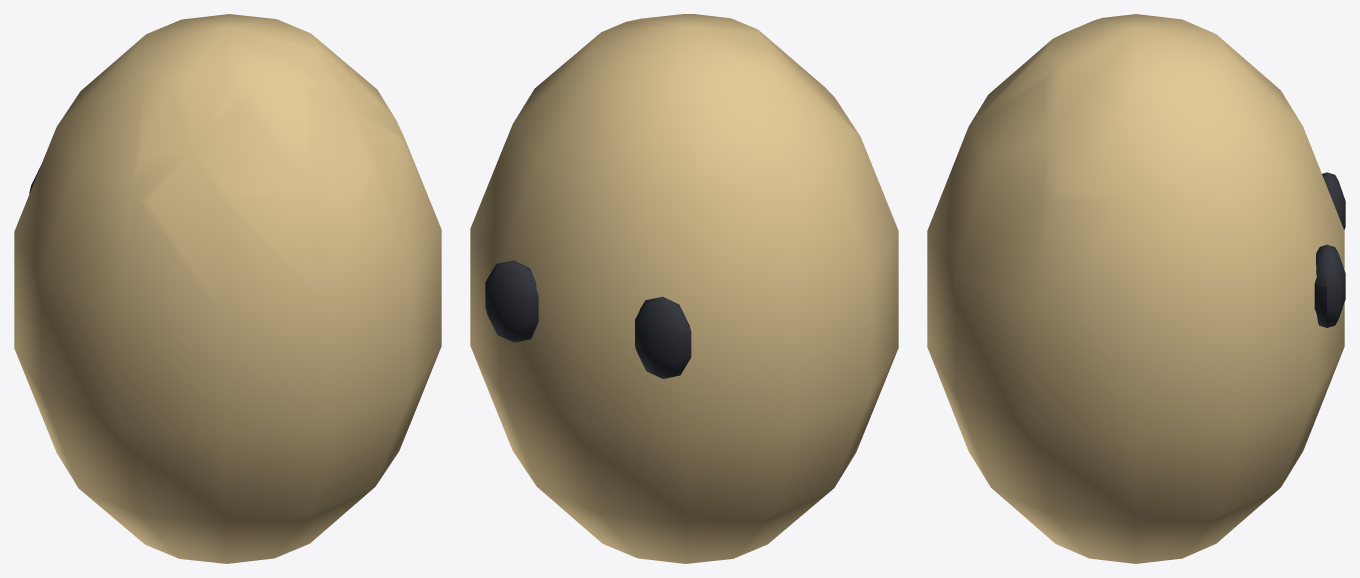
File: gorehulk_a_head.obj
The picture shows the model from 3 angles, left to right: view 1: azimuth 30°, elevation 25°; view 2: azimuth 150°, elevation 25°; view 3: azimuth 270°, elevation 25°; orthographic projection.
Parts seen in each view (by area): view 1: source_component_000; view 2: source_component_000, source_component_001, source_component_002; view 3: source_component_000, source_component_002, source_component_001.
Part boxes in pixels (box(x1,y1,x2,y2)): source_component_000: box(14, 14, 441, 563); source_component_000: box(470, 14, 898, 563); source_component_001: box(635, 296, 691, 378); source_component_002: box(485, 260, 538, 342); source_component_000: box(927, 14, 1344, 563); source_component_002: box(1314, 244, 1345, 327); source_component_001: box(1322, 172, 1345, 229).
Size of the model in its own units: 0.351 by 0.47 by 0.3422.
